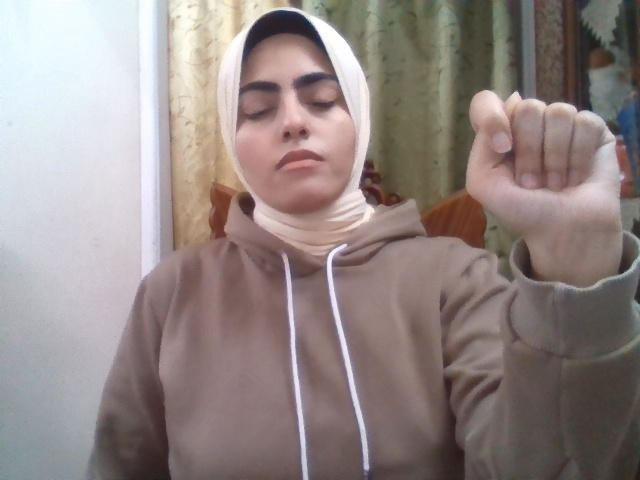T: (465, 89, 622, 234)
